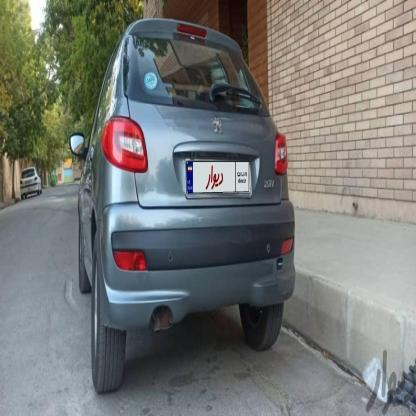Car: (74, 13, 293, 412), (17, 160, 43, 198)
